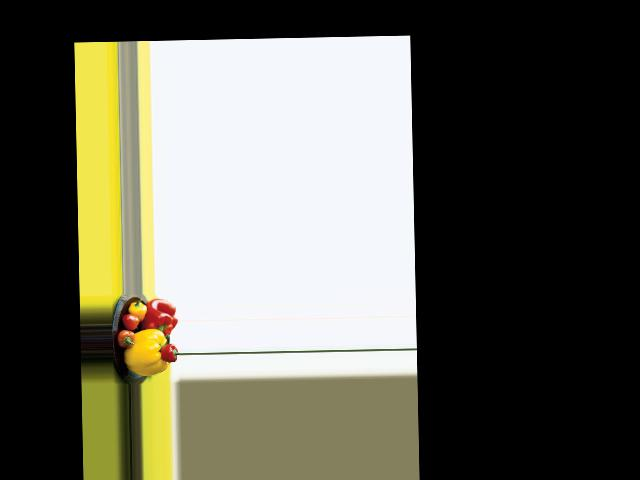bell_pepper: (129, 299, 147, 319)
